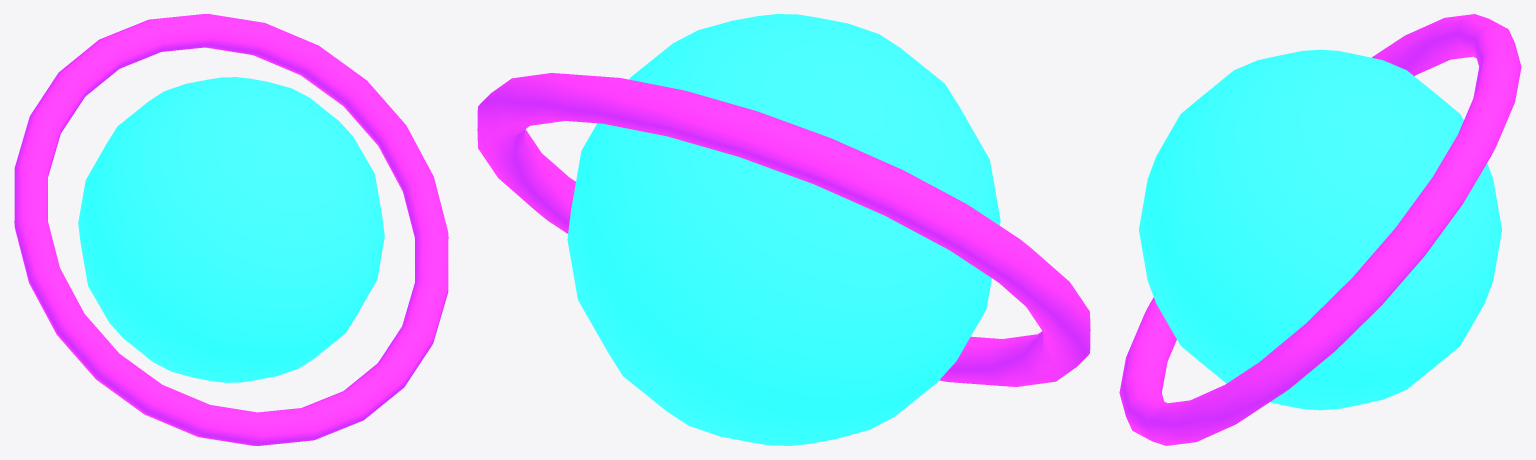
Rendered from NitroSpirit.glb.
The picture shows the model from 3 angles, left to right: view 1: azimuth 30°, elevation 25°; view 2: azimuth 150°, elevation 25°; view 3: azimuth 270°, elevation 25°; orthographic projection. The views are drawn at different scales.
Parts seen in each view (by area): view 1: VFX_NitroSpirit; view 2: VFX_NitroSpirit; view 3: VFX_NitroSpirit.
Part boxes in pixels (x1,y1,x2,y2): VFX_NitroSpirit: (14,14,448,445); VFX_NitroSpirit: (477,14,1090,445); VFX_NitroSpirit: (1119,14,1521,445).
Bounding box in the file's own units: 0.91 × 0.664 × 0.664.
